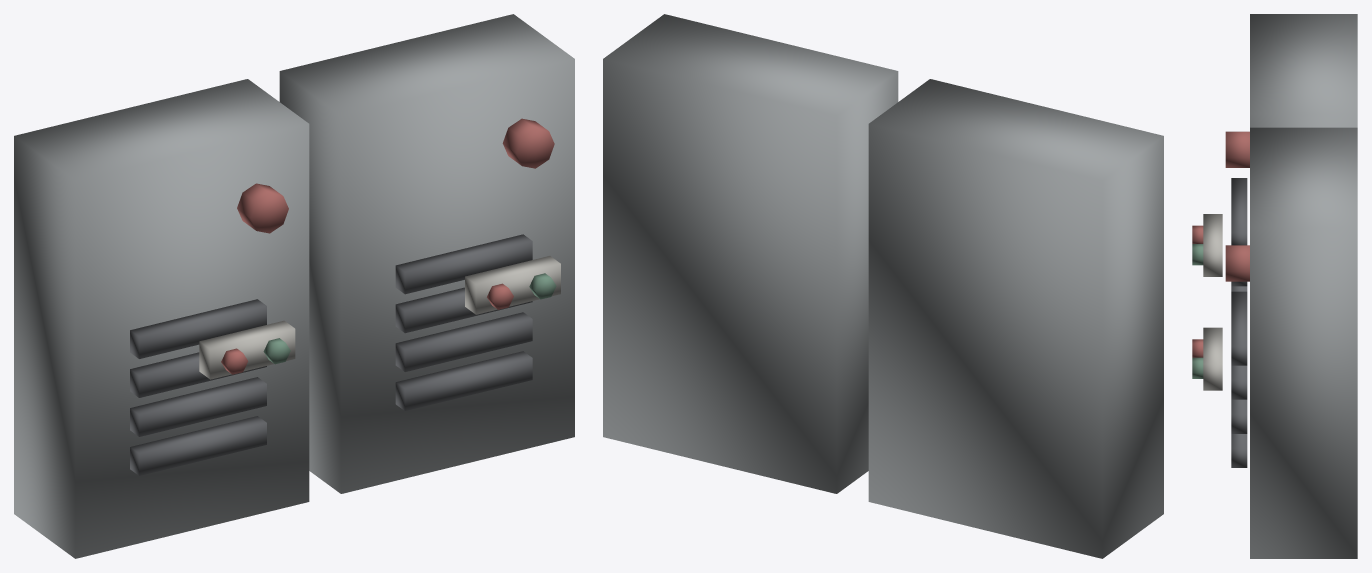
The model's file is wall_intercom__cluster.glb.
3 renders of one model, left to right at view 1: azimuth 30°, elevation 25°; view 2: azimuth 150°, elevation 25°; view 3: azimuth 270°, elevation 25°, orthographic. The views are drawn at different scales.
Parts seen in each view (by area): view 1: world; view 2: world; view 3: world.
Part boxes in pixels (x1,y1,x2,y2): world: [14, 14, 574, 558]; world: [603, 14, 1163, 558]; world: [1192, 14, 1357, 558].
Bounding box in the file's own units: 0.47 × 0.34 × 0.1535.
